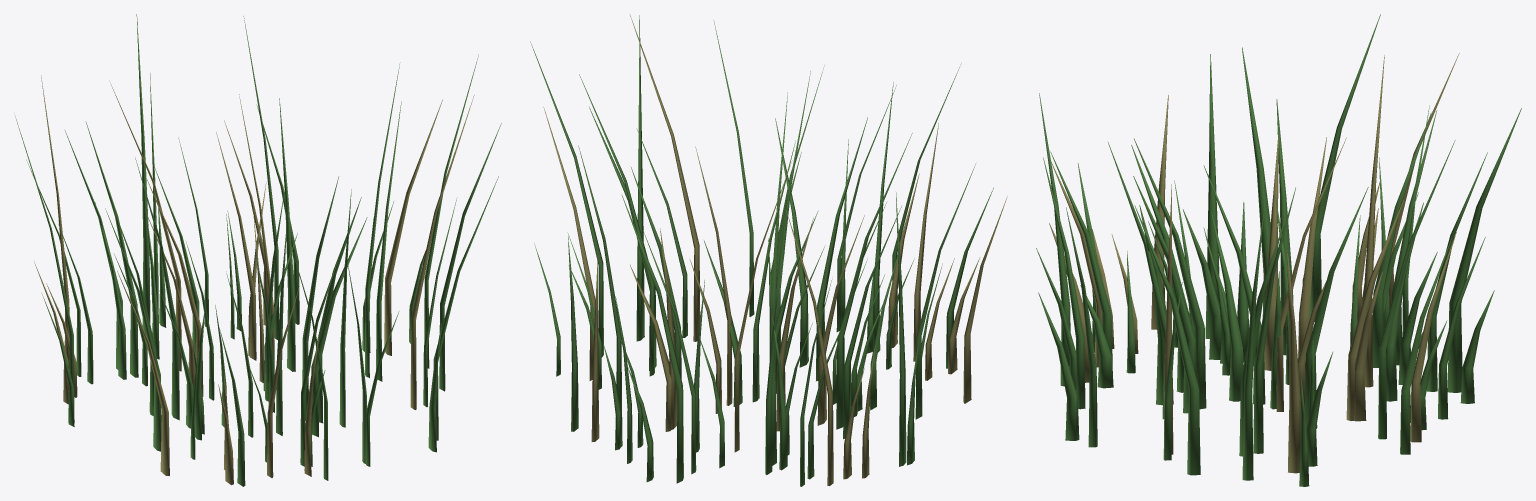
File: MSH_GrassTuft_A.fbx
The picture shows the model from 3 angles, left to right: view 1: azimuth 30°, elevation 25°; view 2: azimuth 150°, elevation 25°; view 3: azimuth 270°, elevation 25°; orthographic projection. The views are drawn at different scales.
Parts seen in each view (by area): view 1: MSH_GrassTuft_A_Blades3D; view 2: MSH_GrassTuft_A_Blades3D; view 3: MSH_GrassTuft_A_Blades3D.
Boxes of the visible parts, left/top/right/bottom form: MSH_GrassTuft_A_Blades3D: left=15, top=14, right=501, bottom=486; MSH_GrassTuft_A_Blades3D: left=530, top=14, right=1007, bottom=486; MSH_GrassTuft_A_Blades3D: left=1036, top=14, right=1521, bottom=486.
Bounding box in the file's own units: 0.9603 × 0.6686 × 0.9753.
